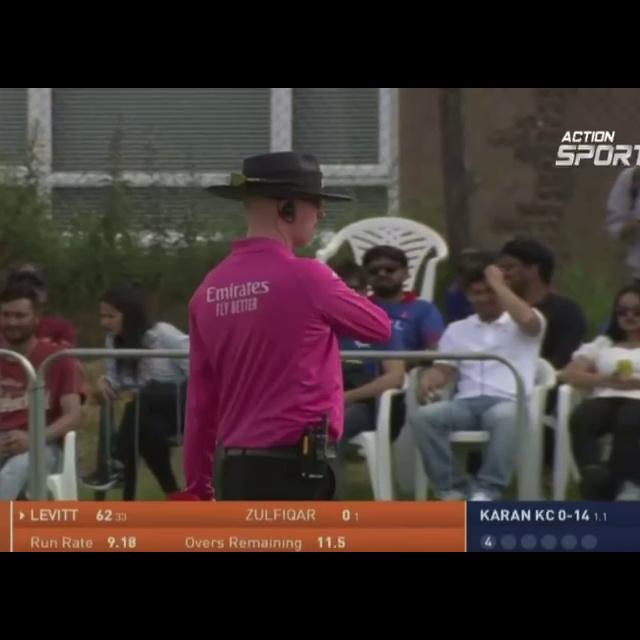umpire: (128, 141, 441, 500)
